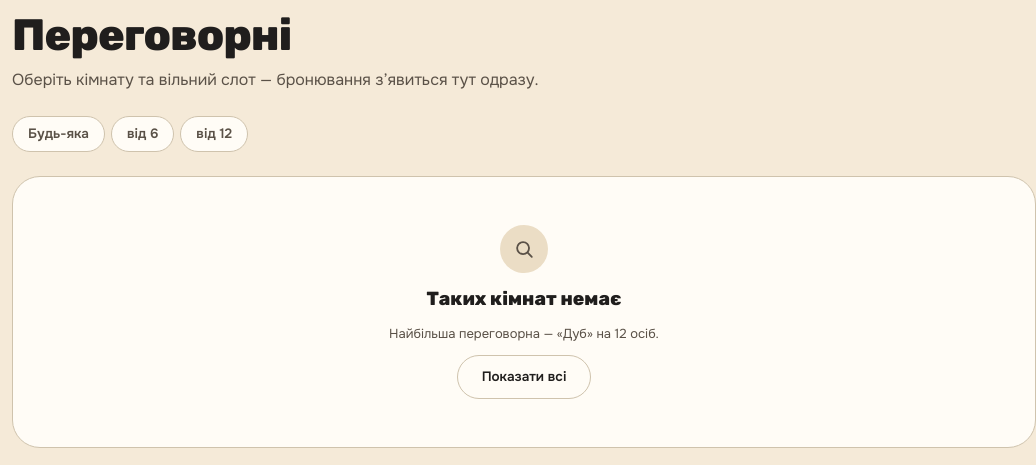
Test case: empty state › names the largest room that does exist and clears the filter on «Показати всі»
Check: the heading "Таких кімнат немає" is shown, box [426,284,622,313]
Check: the text "Найбільша переговорна — «Дуб» на 12 осіб." is shown, box [389,325,659,343]
Step 1. Click the button "Показати всі" → point(524, 377), box [457,355,591,399]
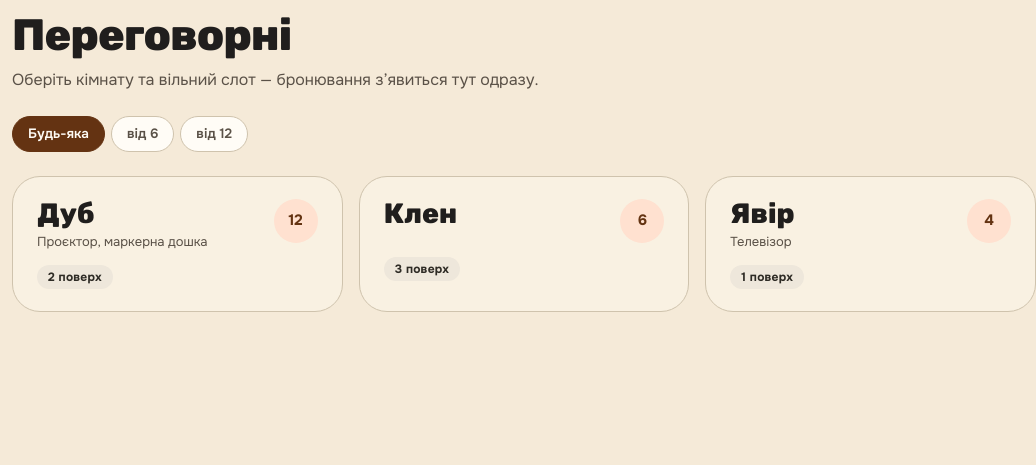
Check: the link "Явір Телевізор 4 1 поверх" is shown, box [705,176,1035,312]
